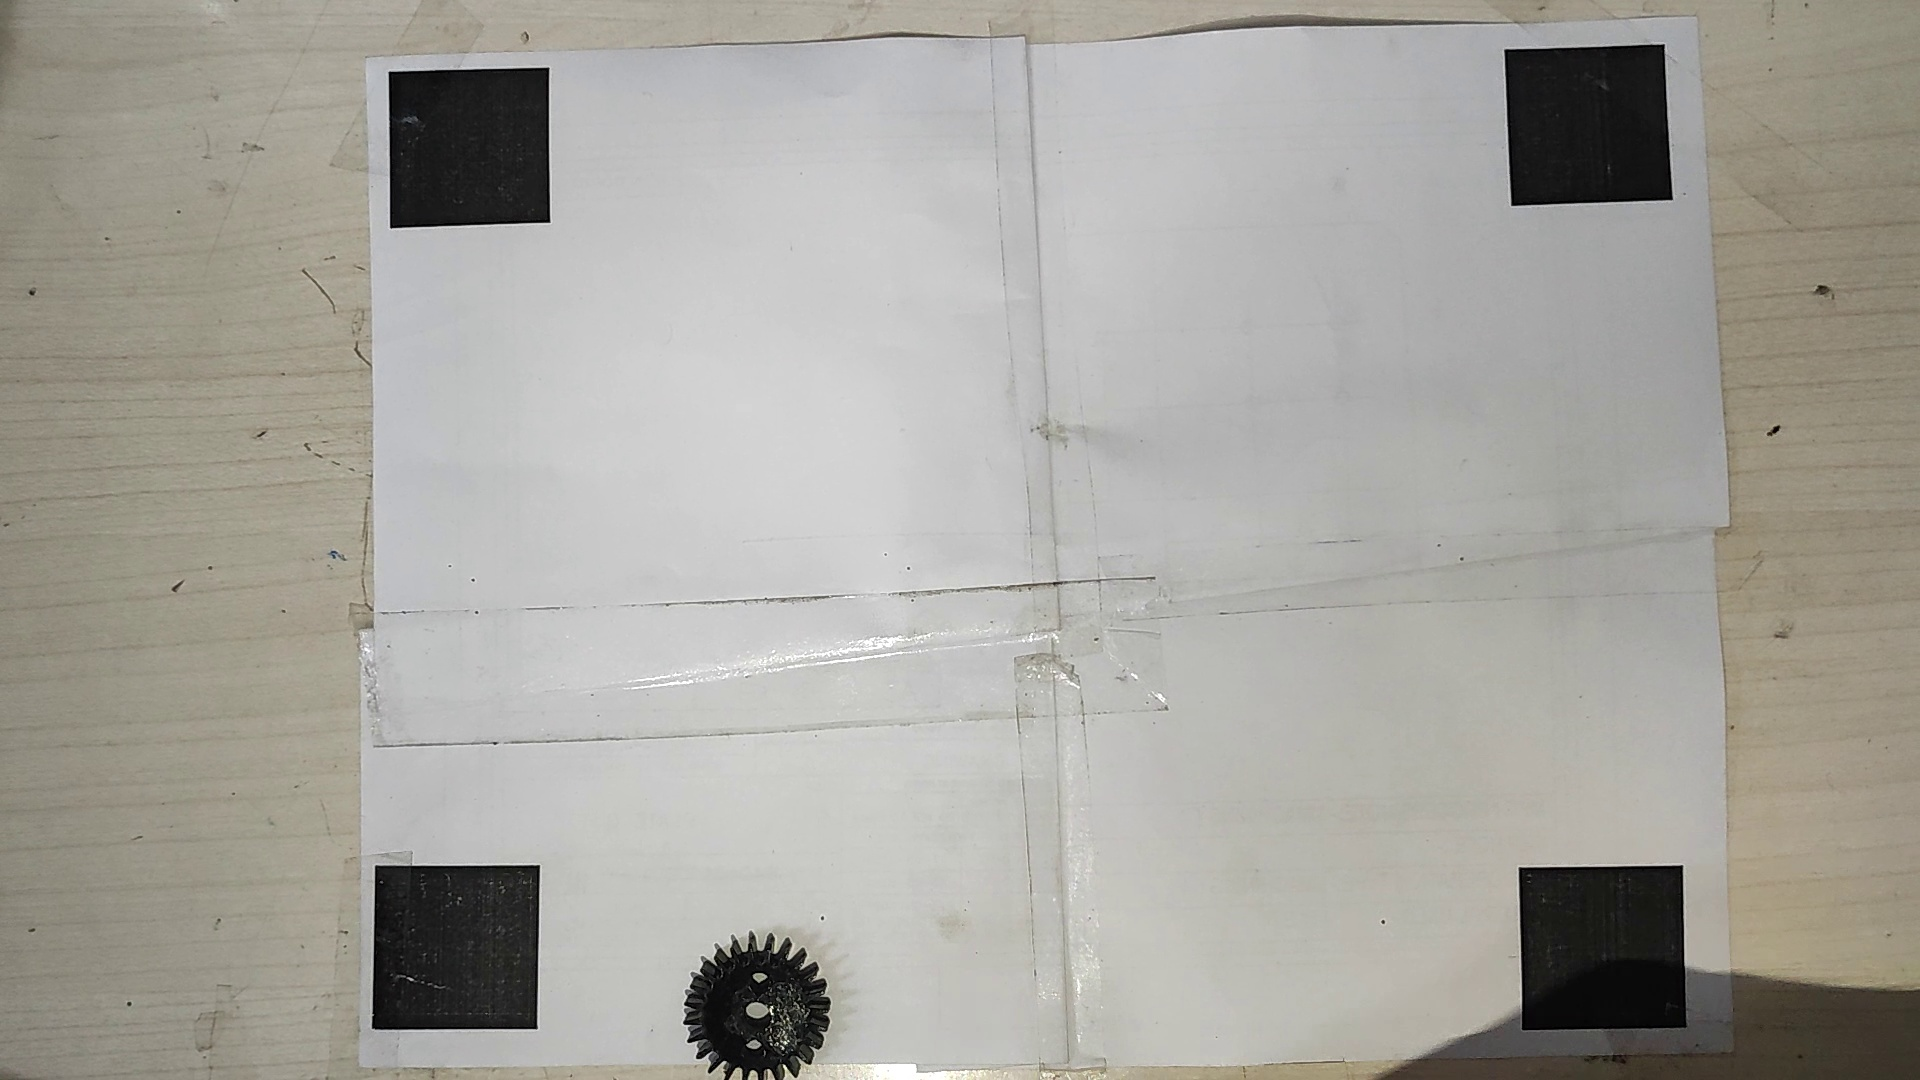Gear: (674, 928, 839, 1080)
